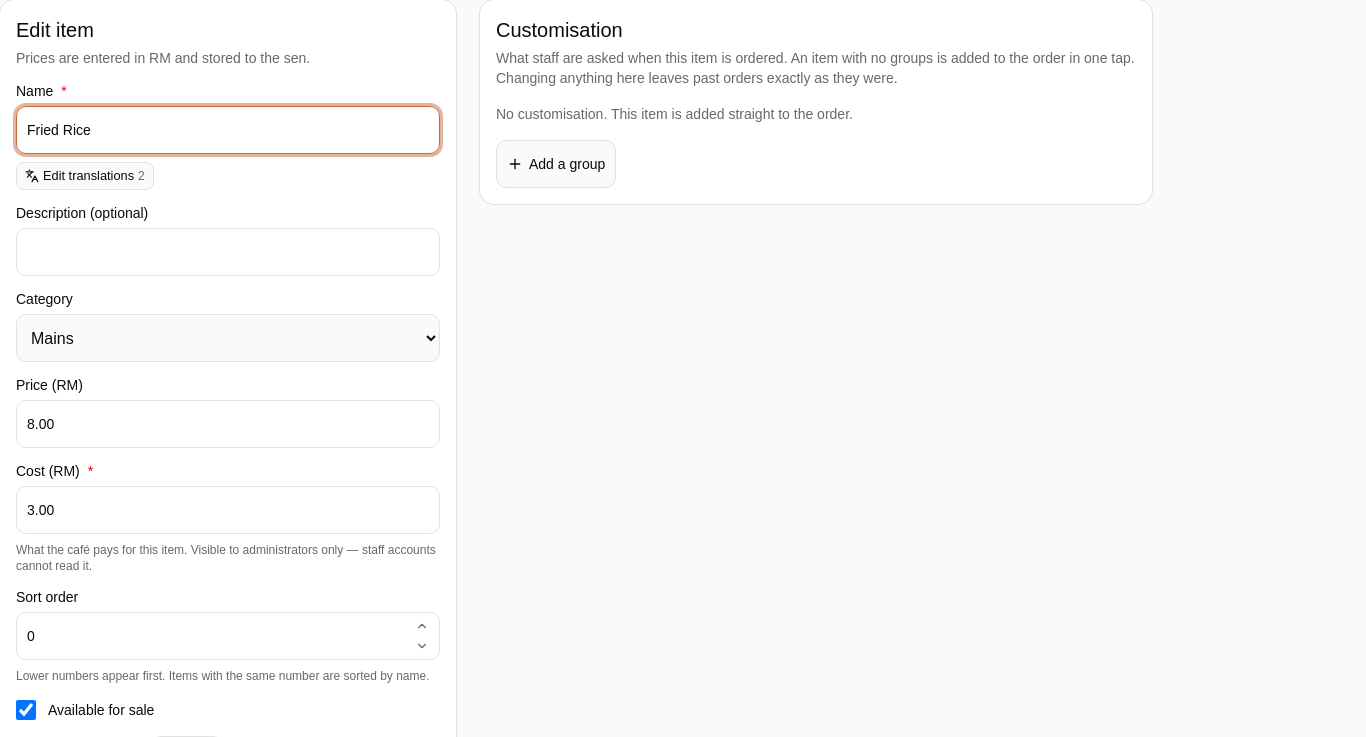
editing an item that already exists › loads every translation it already has
Click the button with test id "item-translate": (85, 176) x1=16 y1=162 x2=154 y2=190
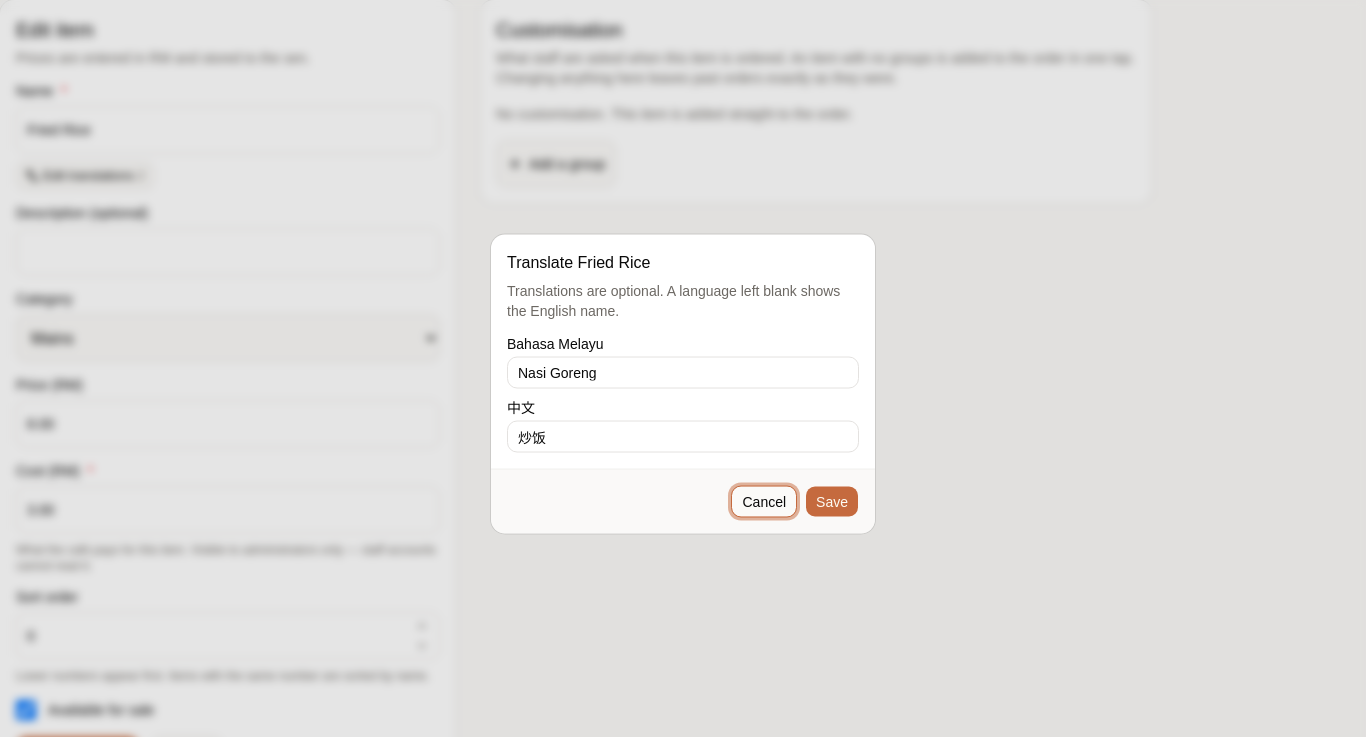
Now the field with test id "translation-ms" holds "Nasi Goreng", box x1=507 y1=356 x2=859 y2=388
Now the field with test id "translation-zh" holds "炒饭", box x1=507 y1=420 x2=859 y2=452
